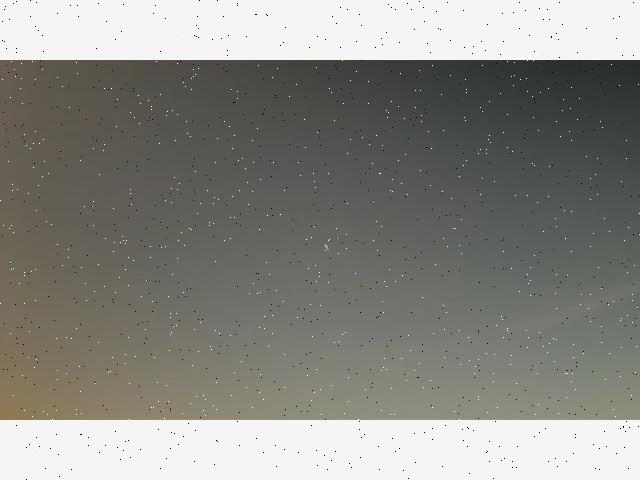Anti-Drone: (322, 242, 334, 253)
